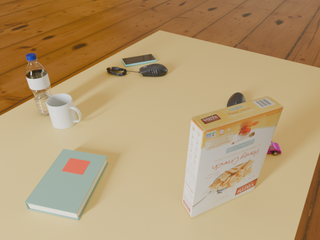book: (25, 149, 108, 220)
bottle: (25, 53, 53, 115)
box: (182, 96, 283, 217)
cup: (46, 94, 81, 129)
mouse: (138, 64, 168, 77), (227, 93, 245, 107)
phone: (122, 54, 157, 67)
toy_car: (267, 141, 281, 155)
